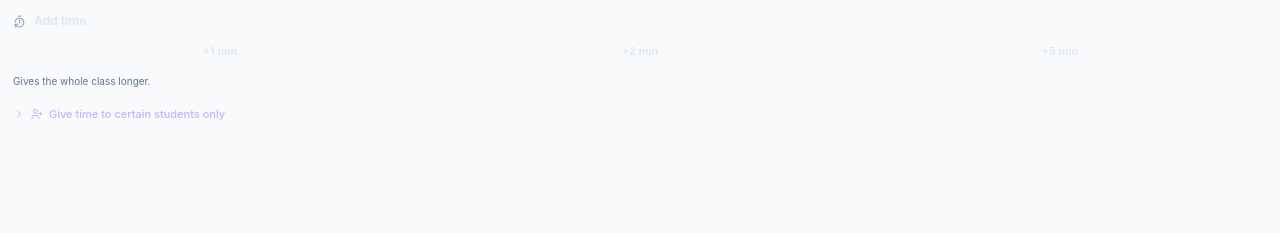
Test: QuizTimeControls › does not offer more time to a student who has finished
Click the button "Give time to certain students only" at {"x": 137, "y": 114}, box [13, 96, 1267, 122]
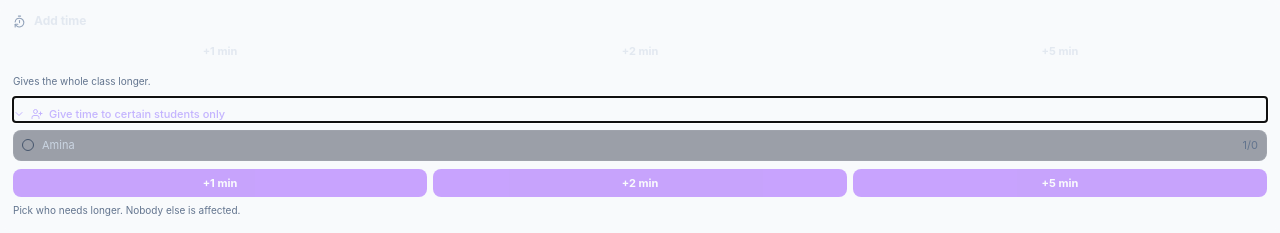
Check: the button "Amina 1/0" is shown, box [13, 130, 1267, 160]
